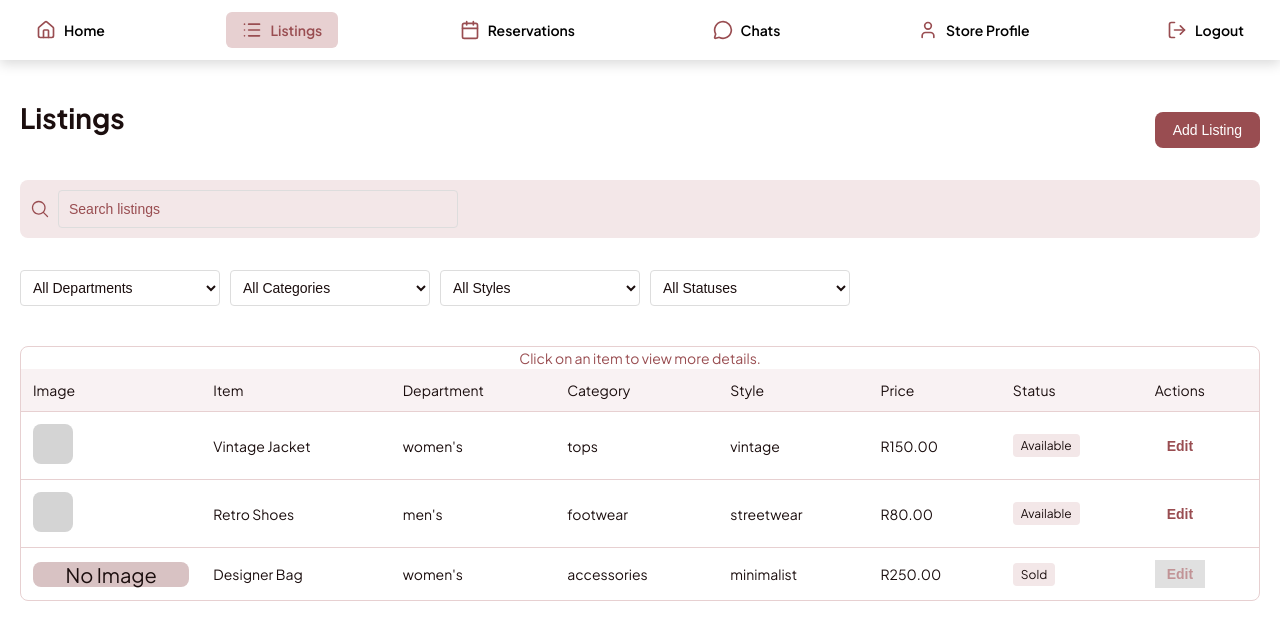
Test: StoreListings › Search and Filtering › searches items by name
Expected: the text "Vintage Jacket" is shown, 201,412 -> 391,480
Step 1. Type "vintage" into the field with placeholder "Search listings" → (258, 209), box 58,190 -> 458,228
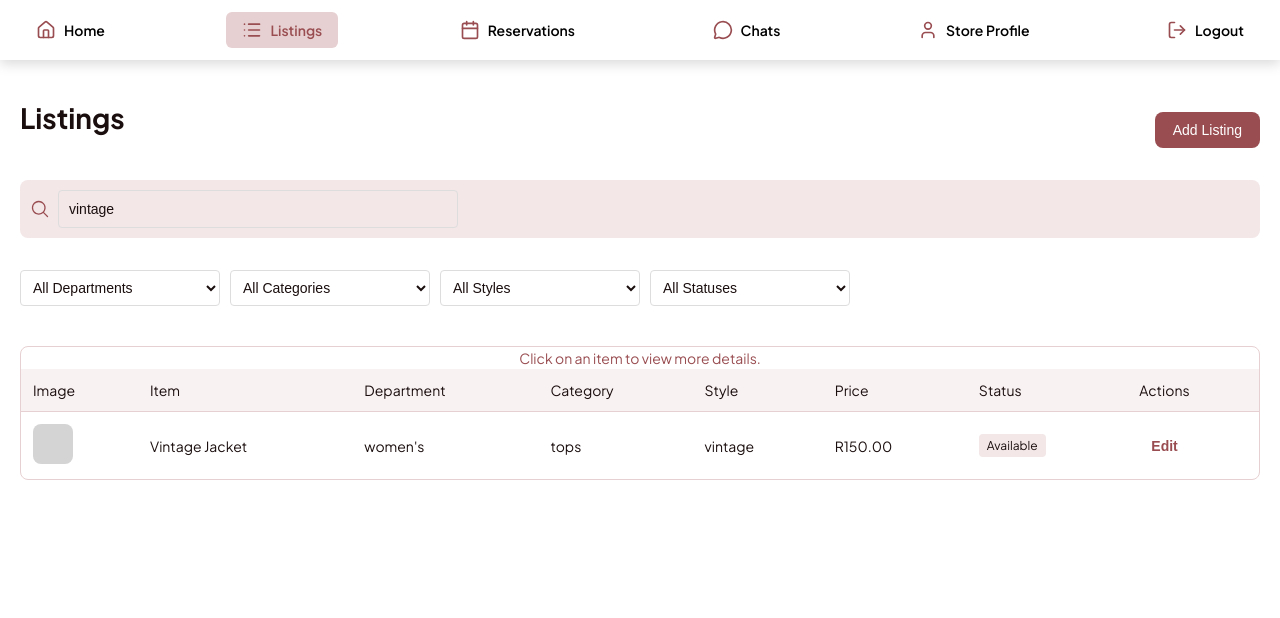
Expected: the text "Vintage Jacket" is shown, 138,412 -> 352,479
Now the text "Retro Shoes" is gone
Now the text "Designer Bag" is gone
